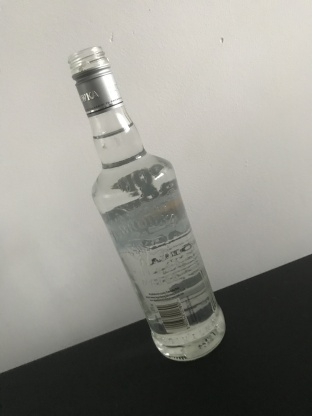nakretka: (65, 43, 125, 119)
